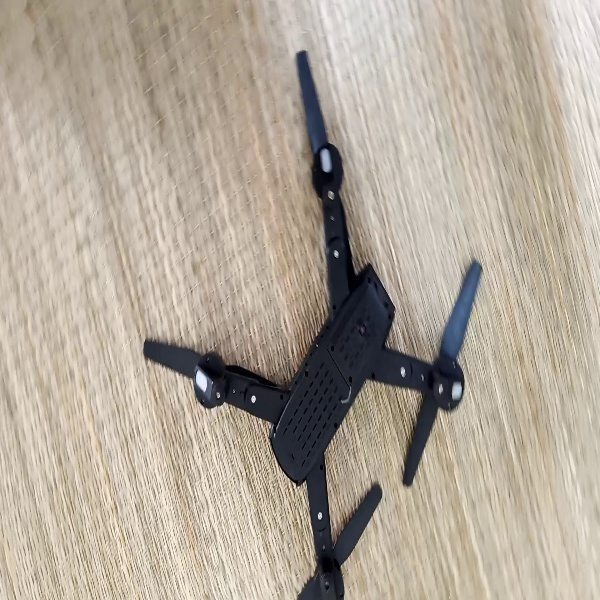drone: (142, 42, 486, 600)
